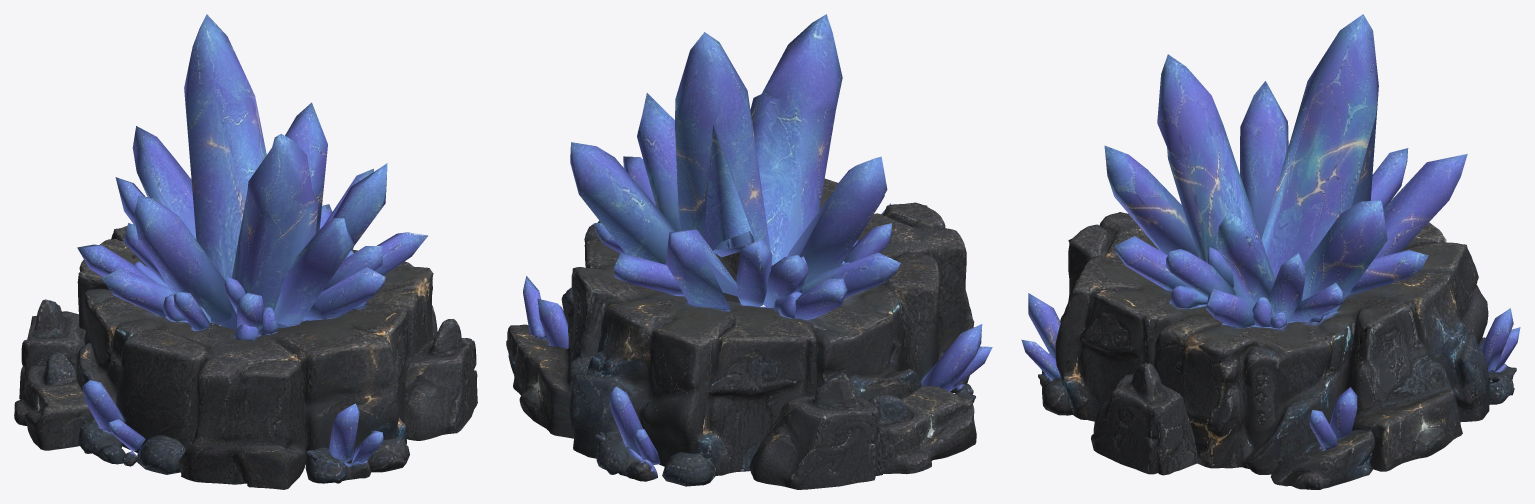
File: lingjing.glb
3 views of the same model, side by side, from view 1: azimuth 30°, elevation 25°; view 2: azimuth 150°, elevation 25°; view 3: azimuth 270°, elevation 25° (orthographic). The views are drawn at different scales.
Visible parts, largest first — view 1: tripo_node_94663426-b719-469f-af04-42fe8aa618f6; view 2: tripo_node_94663426-b719-469f-af04-42fe8aa618f6; view 3: tripo_node_94663426-b719-469f-af04-42fe8aa618f6.
Boxes of the visible parts, x1,y1,x2,y2 form: tripo_node_94663426-b719-469f-af04-42fe8aa618f6: (14,14,477,489); tripo_node_94663426-b719-469f-af04-42fe8aa618f6: (506,14,992,489); tripo_node_94663426-b719-469f-af04-42fe8aa618f6: (1021,14,1520,489).
Bounding box in the file's own units: 0.998 × 0.8262 × 0.998.
Materials: 1 (1 with a texture image).
